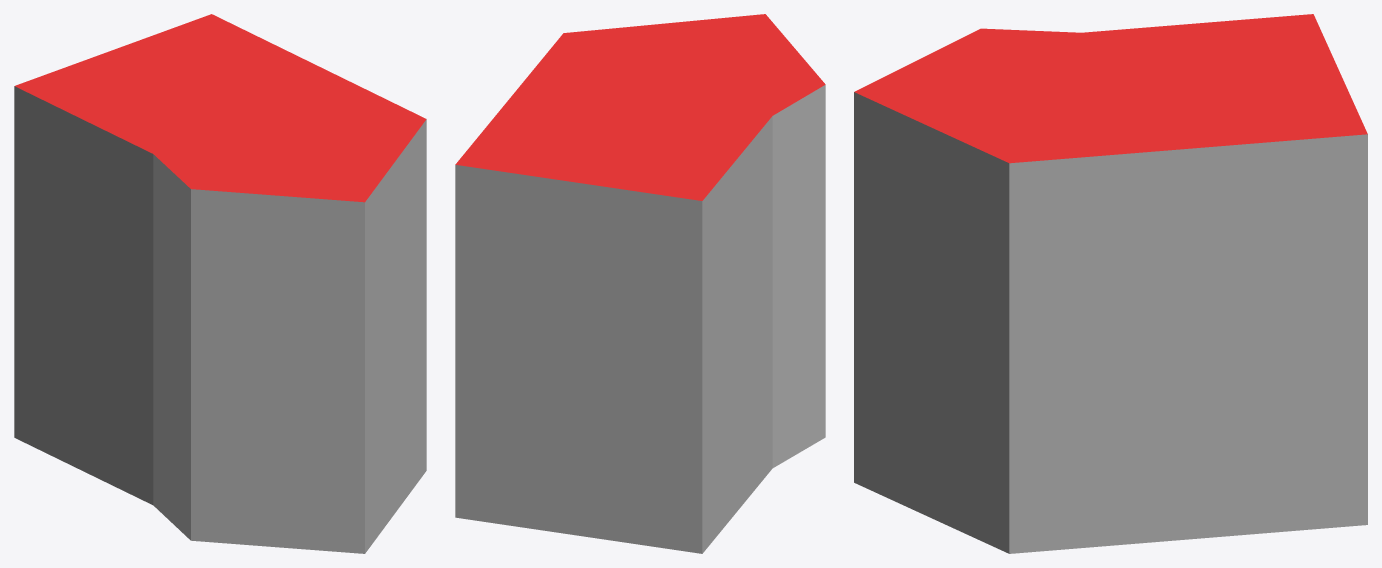
The model's file is DEBE3D01YYK0003U9a.dae.
3 renders of one model, left to right at view 1: azimuth 30°, elevation 25°; view 2: azimuth 150°, elevation 25°; view 3: azimuth 270°, elevation 25°, orthographic. The views are drawn at different scales.
Size of the model in its own units: 3.29 by 4.79 by 4.01.
